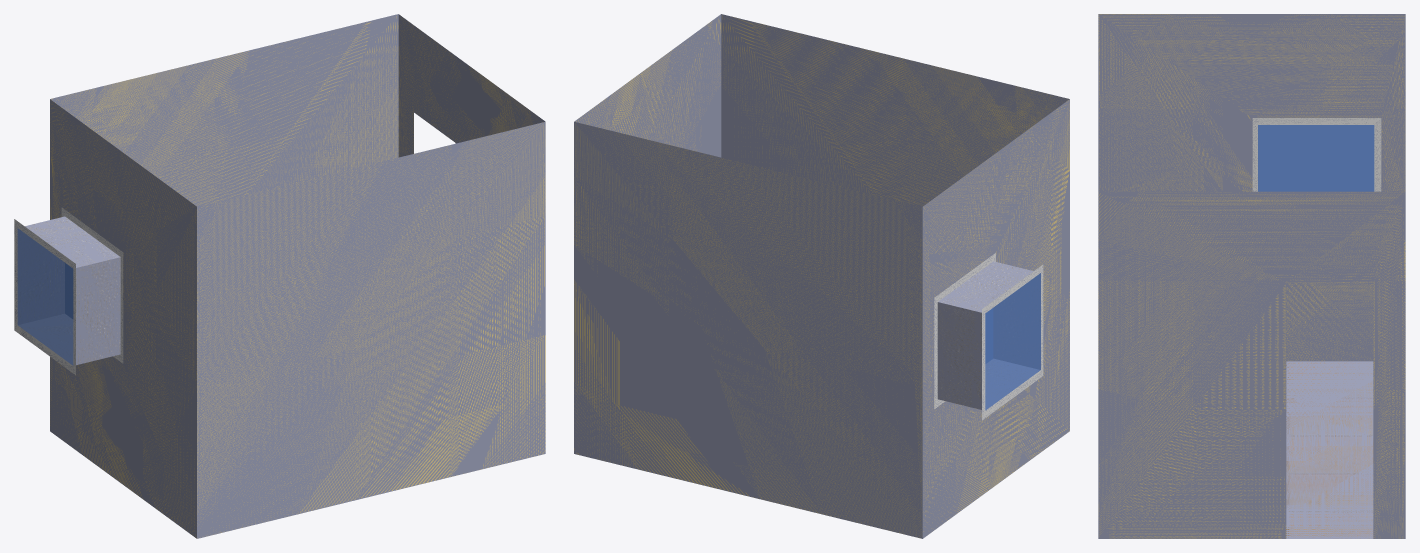
File: DES019.obj
The picture shows the model from 3 angles, left to right: view 1: azimuth 30°, elevation 25°; view 2: azimuth 150°, elevation 25°; view 3: azimuth 270°, elevation 25°; orthographic projection. The views are drawn at different scales.
Parts seen in each view (by area): view 1: Mesh5 DES019 Model, Mesh1 Group1 DES019 Model; view 2: Mesh5 DES019 Model, Mesh1 Group1 DES019 Model; view 3: Mesh5 DES019 Model, Mesh1 Group1 DES019 Model.
Part boxes in pixels (x1,y1,x2,y2): Mesh5 DES019 Model: [50, 14, 545, 538]; Mesh1 Group1 DES019 Model: [14, 207, 123, 375]; Mesh5 DES019 Model: [574, 14, 1069, 538]; Mesh1 Group1 DES019 Model: [934, 253, 1043, 420]; Mesh5 DES019 Model: [1098, 14, 1405, 538]; Mesh1 Group1 DES019 Model: [1252, 118, 1381, 191].
Size of the model in its own units: 3.75 by 3 by 2.41.
6 materials, 2 textured.
